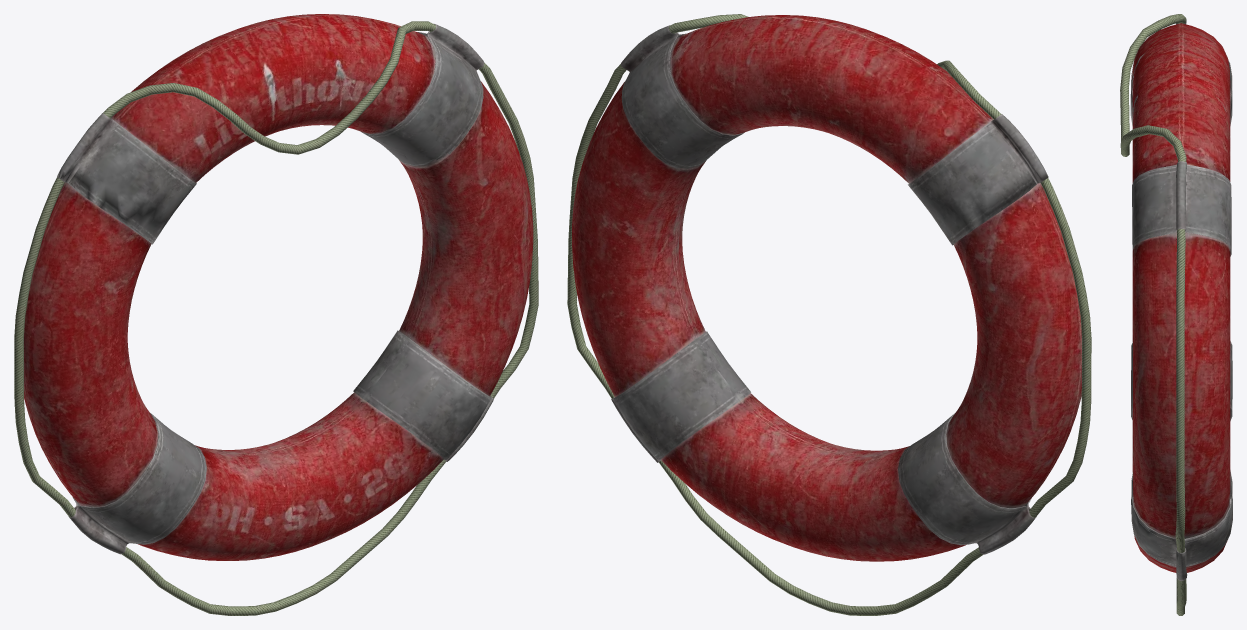
File: lifebuoy.glb
3 views of the same model, side by side, from view 1: azimuth 30°, elevation 25°; view 2: azimuth 150°, elevation 25°; view 3: azimuth 270°, elevation 25° (orthographic). The views are drawn at different scales.
Parts seen in each view (by area): view 1: lifebuoy; view 2: lifebuoy; view 3: lifebuoy.
Part boxes in pixels (box(x1,y1,x2,y2)): lifebuoy: box(14, 14, 538, 615); lifebuoy: box(567, 14, 1091, 615); lifebuoy: box(1120, 14, 1232, 615).
Size of the model in its own units: 0.783 by 0.8412 by 0.1551.
Materials: 1 (1 with a texture image).
